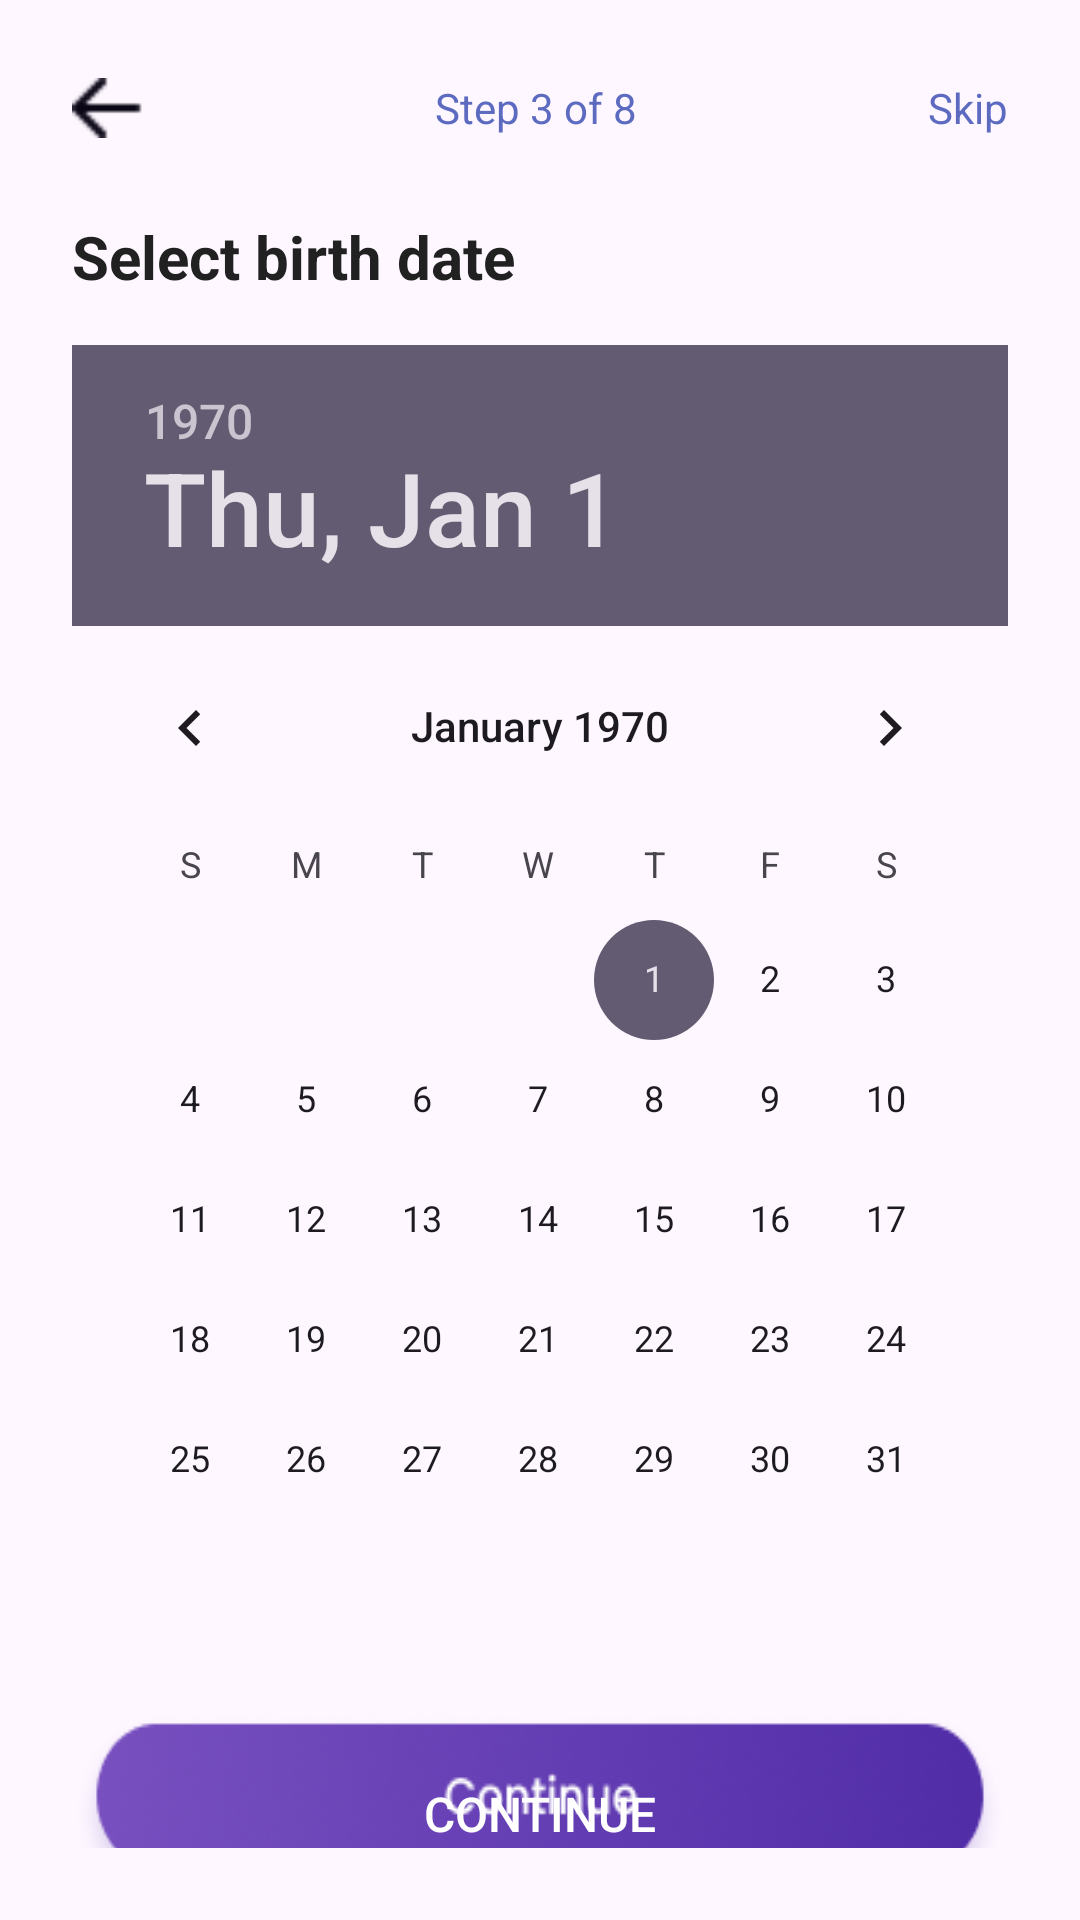

Point at icon controls on the screen. Image size 1080 x 1920, points as point (x, y).
Back: point (107, 108)
